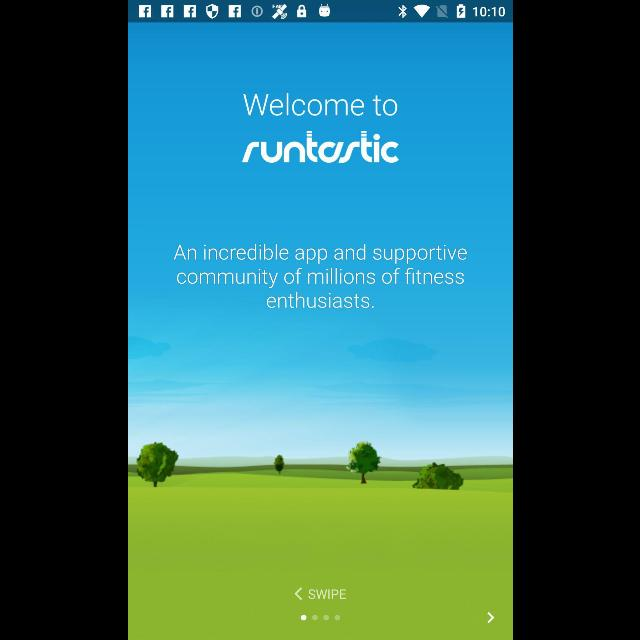backgroundimage: (128, 22, 512, 640)
icon: (294, 588, 302, 600), (486, 612, 494, 624)
image: (242, 130, 398, 163)
pageindicator: (300, 614, 340, 622)
text: (172, 243, 466, 309), (243, 93, 397, 117), (308, 588, 347, 600)
uppertaskbar: (128, 1, 512, 23)
